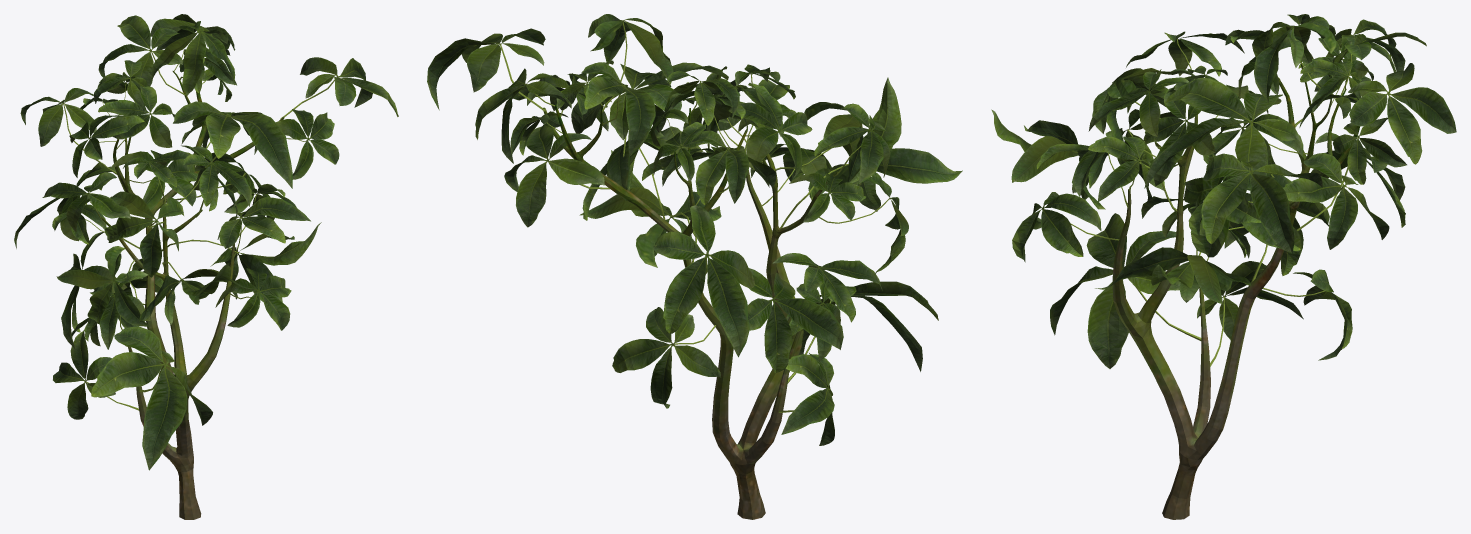
The model's file is pachira-b.glb.
3 views of the same model, side by side, from view 1: azimuth 30°, elevation 25°; view 2: azimuth 150°, elevation 25°; view 3: azimuth 270°, elevation 25° (orthographic). The views are drawn at different scales.
Size of the model in its own units: 0.9753 by 1.15 by 0.9237.
2 materials, 2 textured.
